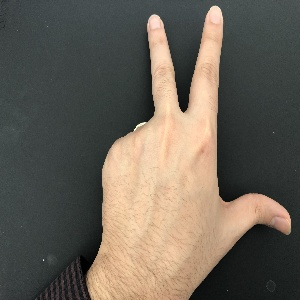hand: (100, 5, 292, 269)
